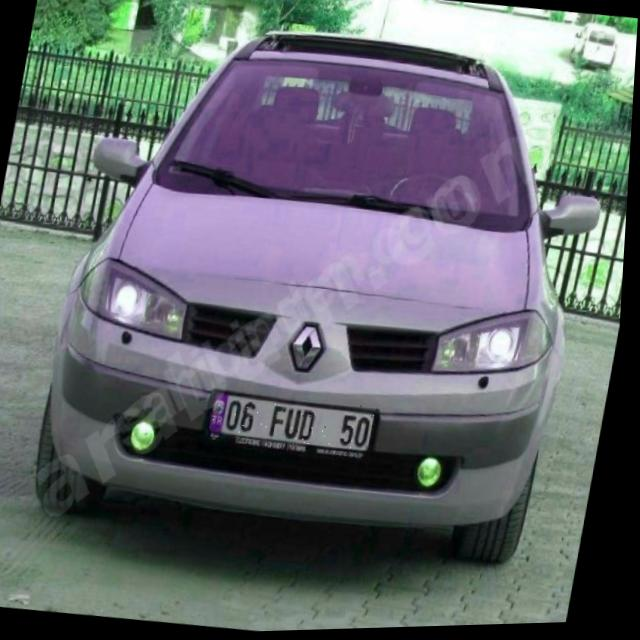license_plate: (209, 389, 382, 457)
